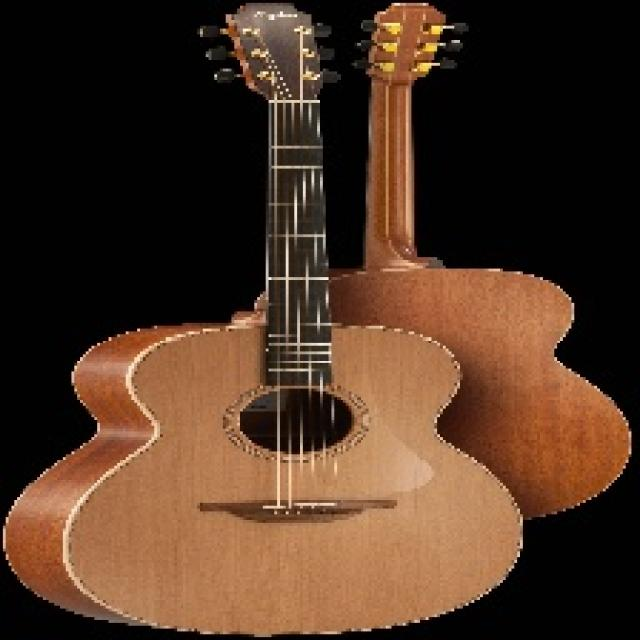guitar: (7, 1, 521, 640), (270, 2, 631, 518)
